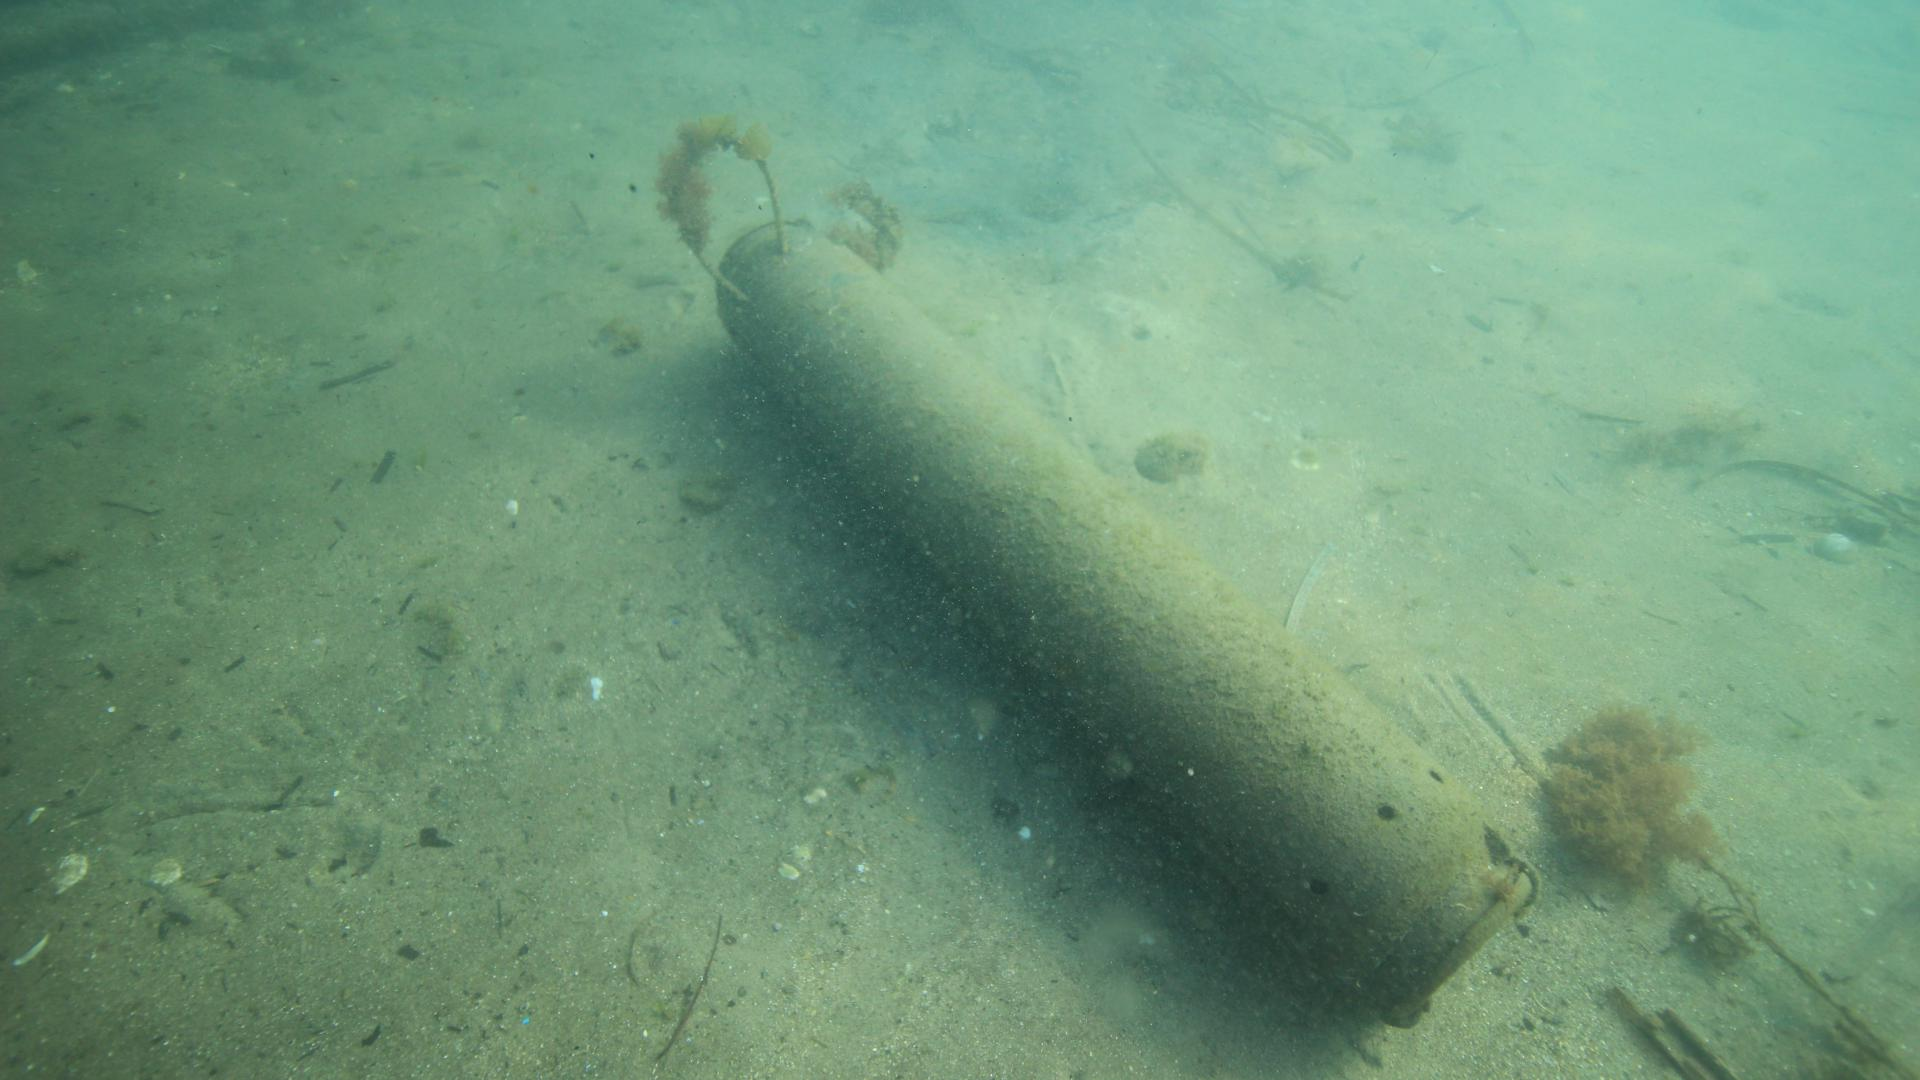eel fish trap: (715, 214, 1542, 1030)
rope: (661, 124, 793, 310)
